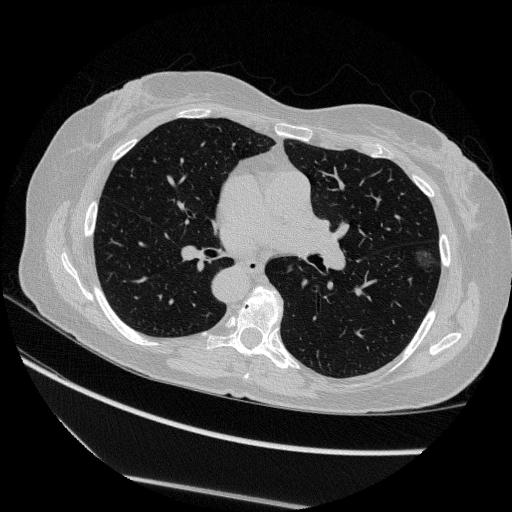nodule: (415, 246, 438, 269)
